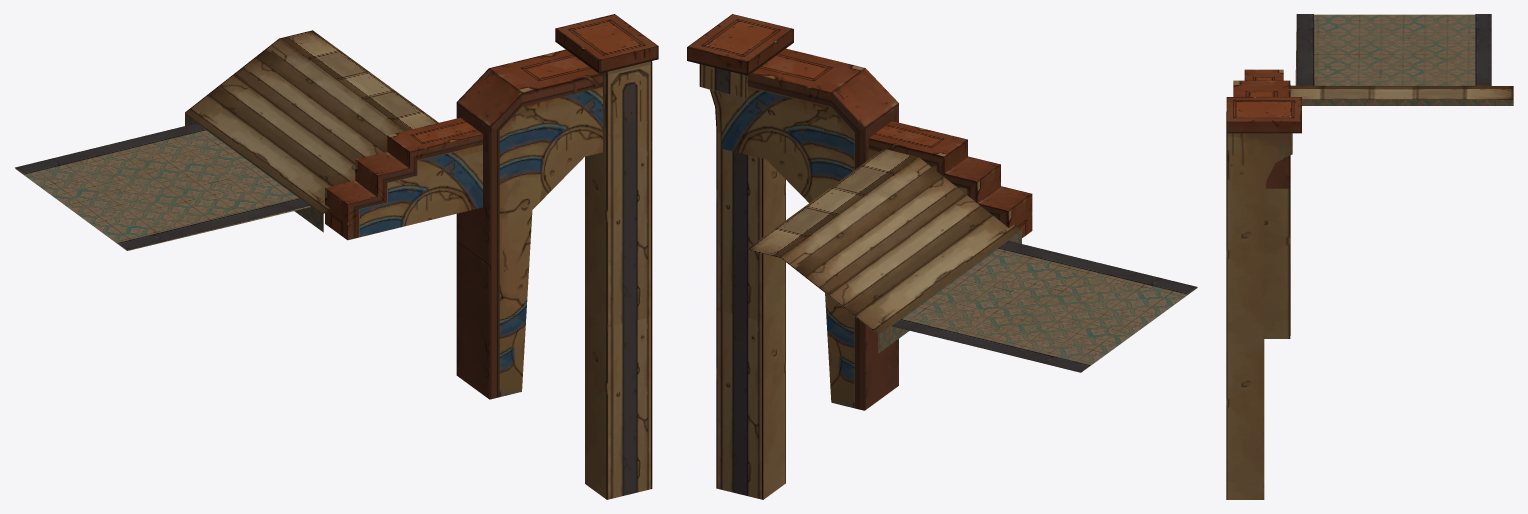
File: 2_DG_Qiao_01.FBX
3 views of the same model, side by side, from view 1: azimuth 30°, elevation 25°; view 2: azimuth 150°, elevation 25°; view 3: azimuth 270°, elevation 25° (orthographic). The views are drawn at different scales.
Parts seen in each view (by area): view 1: 2_DG_Qiao_01_05, 2_DG_Qiao_01_04, 2_DG_Qiao_01_02, 2_DG_Qiao_01_01, 2_DG_Qiao_01_03; view 2: 2_DG_Qiao_01_05, 2_DG_Qiao_01_02, 2_DG_Qiao_01_04, 2_DG_Qiao_01_01, 2_DG_Qiao_01_03; view 3: 2_DG_Qiao_01_05, 2_DG_Qiao_01_01, 2_DG_Qiao_01_04, 2_DG_Qiao_01_02, 2_DG_Qiao_01_03.
Part boxes in pixels (left/top/right/bottom): 2_DG_Qiao_01_05: left=555, top=14, right=658, bottom=499; 2_DG_Qiao_01_04: left=456, top=49, right=602, bottom=399; 2_DG_Qiao_01_02: left=185, top=30, right=438, bottom=232; 2_DG_Qiao_01_01: left=15, top=123, right=310, bottom=250; 2_DG_Qiao_01_03: left=325, top=117, right=482, bottom=240; 2_DG_Qiao_01_05: left=687, top=14, right=793, bottom=499; 2_DG_Qiao_01_02: left=746, top=149, right=1021, bottom=353; 2_DG_Qiao_01_04: left=721, top=48, right=898, bottom=410; 2_DG_Qiao_01_01: left=892, top=240, right=1197, bottom=372; 2_DG_Qiao_01_03: left=868, top=121, right=1032, bottom=237; 2_DG_Qiao_01_05: left=1226, top=97, right=1301, bottom=499; 2_DG_Qiao_01_01: left=1295, top=14, right=1491, bottom=85; 2_DG_Qiao_01_04: left=1233, top=80, right=1290, bottom=338; 2_DG_Qiao_01_02: left=1290, top=85, right=1513, bottom=105; 2_DG_Qiao_01_03: left=1244, top=69, right=1283, bottom=80.
Size of the model in its own units: 1480 by 1272 by 870.
